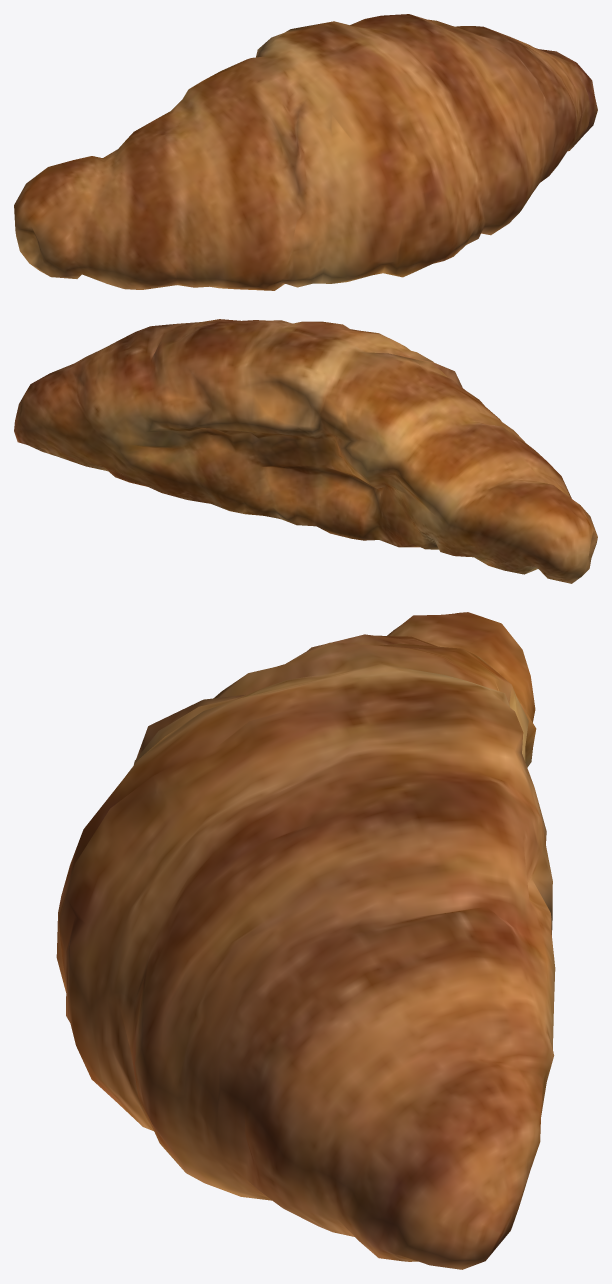
The model's file is croissant.glb.
The picture shows the model from 3 angles, top to bottom: view 1: azimuth 30°, elevation 25°; view 2: azimuth 150°, elevation 25°; view 3: azimuth 270°, elevation 25°; orthographic projection. The views are drawn at different scales.
Visible parts, largest first — view 1: croissant; view 2: croissant; view 3: croissant.
Boxes of the visible parts, box(x1,y1,x2,y2) form: croissant: box(14, 14, 597, 290); croissant: box(14, 319, 597, 583); croissant: box(56, 612, 555, 1269).
Bounding box in the file's own units: 0.2 × 0.062 × 0.0755.
1 material, 1 textured.
